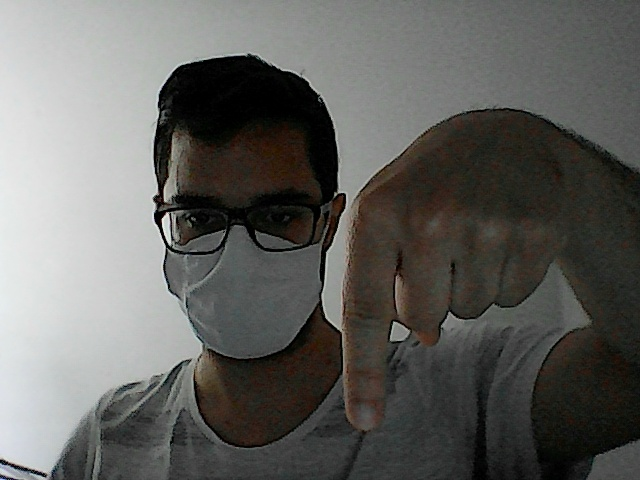down: (337, 96, 568, 442)
